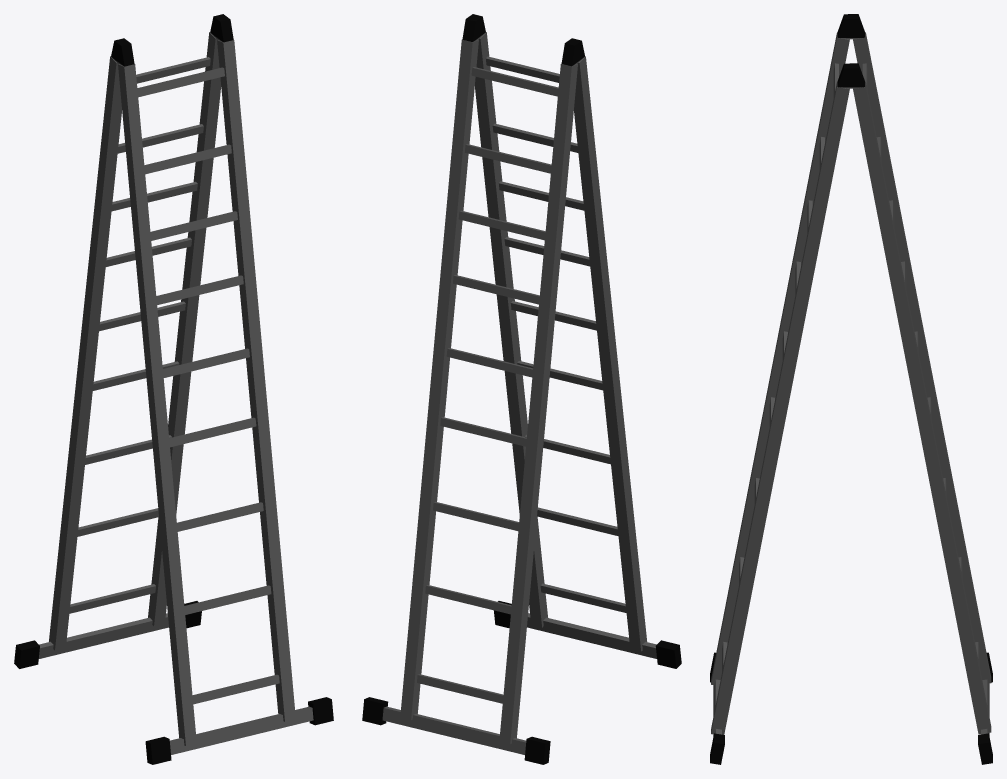
The model's file is doublestair.fbx.
3 views of the same model, side by side, from view 1: azimuth 30°, elevation 25°; view 2: azimuth 150°, elevation 25°; view 3: azimuth 270°, elevation 25° (orthographic). The views are drawn at different scales.
Parts seen in each view (by area): view 1: SM_Stairs_01.001; view 2: SM_Stairs_01.001; view 3: SM_Stairs_01.001.
Boxes of the visible parts, x1,y1,x2,y2 form: SM_Stairs_01.001: (14, 14, 333, 764); SM_Stairs_01.001: (362, 14, 681, 764); SM_Stairs_01.001: (710, 14, 992, 764).
Size of the model in its own units: 88.29 by 309 by 117.
